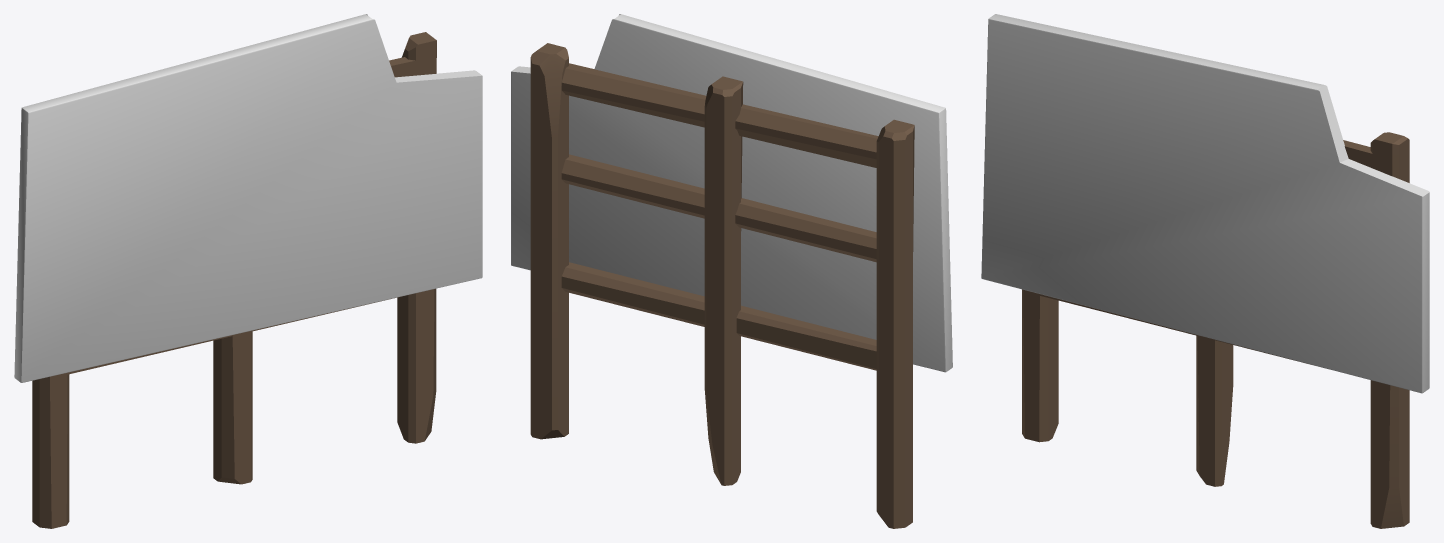
File: Road-Sign-M01A.fbx
3 renders of one model, left to right at view 1: azimuth 30°, elevation 25°; view 2: azimuth 150°, elevation 25°; view 3: azimuth 330°, elevation 25°, orthographic. The views are drawn at different scales.
Visible parts, largest first — view 1: Road-Sign-M01A; view 2: Road-Sign-M01A; view 3: Road-Sign-M01A.
Boxes of the visible parts, left/top/right/bottom form: Road-Sign-M01A: left=14, top=14, right=482, bottom=528; Road-Sign-M01A: left=511, top=14, right=952, bottom=528; Road-Sign-M01A: left=981, top=14, right=1429, bottom=528.
Size of the model in its own units: 459 by 423 by 48.62.
